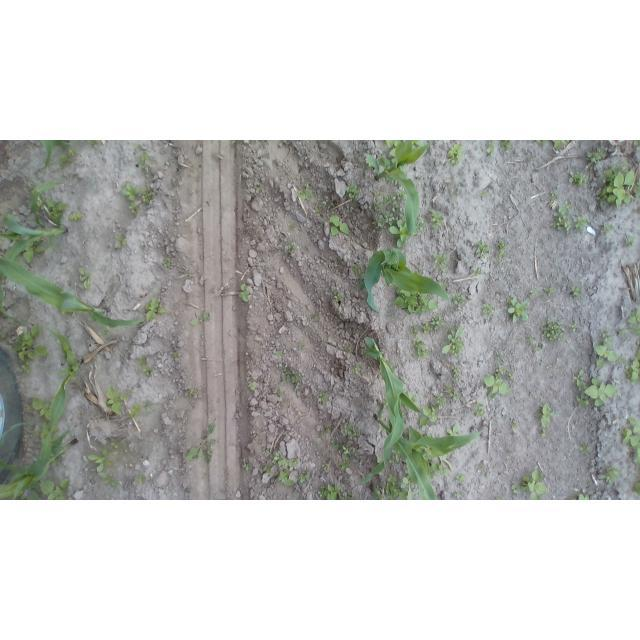Maize: (358, 409, 485, 499), (1, 255, 146, 327), (1, 179, 69, 321), (32, 322, 85, 479), (362, 335, 431, 450), (365, 140, 431, 242), (0, 422, 80, 500), (366, 244, 450, 312), (38, 140, 68, 173), (407, 485, 414, 500)
Weeds: (600, 161, 636, 208), (13, 325, 48, 363), (394, 289, 440, 314), (373, 191, 403, 226), (586, 377, 617, 407), (521, 466, 548, 500), (623, 416, 640, 465), (87, 449, 114, 475), (106, 387, 130, 416), (483, 374, 511, 398), (507, 297, 529, 326), (443, 327, 464, 357), (595, 336, 614, 369), (418, 403, 444, 427), (186, 439, 213, 462), (39, 479, 70, 499), (618, 355, 640, 383), (389, 219, 410, 248), (541, 318, 566, 342), (146, 297, 167, 325), (550, 202, 570, 230), (279, 366, 302, 389), (536, 404, 556, 428), (272, 452, 301, 468), (329, 215, 351, 236), (385, 472, 403, 497), (447, 143, 466, 165), (568, 169, 588, 189), (24, 243, 45, 262), (45, 197, 67, 215), (31, 399, 46, 425), (475, 239, 494, 257), (430, 213, 448, 232), (603, 464, 620, 484), (320, 483, 341, 499), (574, 368, 587, 393), (59, 149, 77, 167), (122, 184, 142, 200), (79, 267, 93, 289), (202, 421, 219, 439), (431, 461, 449, 478), (239, 283, 254, 303), (342, 423, 363, 437), (279, 470, 296, 487), (39, 423, 61, 436), (444, 384, 460, 400), (433, 252, 449, 268), (192, 313, 209, 328), (415, 340, 430, 357), (100, 473, 118, 487), (142, 190, 155, 209), (130, 402, 144, 419), (573, 215, 588, 230), (483, 303, 498, 318), (577, 395, 593, 409), (430, 316, 446, 330), (347, 183, 361, 198), (452, 364, 462, 384), (498, 239, 509, 257), (446, 421, 460, 435), (298, 187, 311, 202), (399, 475, 415, 487), (630, 306, 640, 324), (410, 326, 422, 341), (587, 152, 602, 164), (137, 354, 148, 370), (476, 402, 487, 418), (21, 490, 38, 500), (420, 446, 434, 458), (529, 335, 540, 350), (17, 364, 29, 377), (114, 236, 127, 248), (300, 470, 313, 482), (623, 234, 635, 247), (545, 284, 556, 298), (580, 445, 593, 456), (318, 392, 331, 403), (342, 443, 355, 454), (140, 154, 154, 164), (353, 264, 363, 278), (551, 140, 566, 149), (454, 490, 467, 500), (455, 472, 465, 485), (499, 140, 513, 149), (144, 401, 155, 412), (496, 350, 507, 361), (339, 460, 351, 470), (334, 291, 342, 305), (488, 140, 496, 154), (129, 203, 140, 213), (481, 191, 491, 202), (248, 381, 258, 392), (263, 463, 274, 473), (435, 393, 444, 405), (70, 213, 85, 220), (134, 144, 147, 152), (144, 366, 154, 376), (172, 348, 183, 357), (422, 324, 431, 335), (186, 388, 198, 396), (568, 324, 580, 332), (634, 480, 640, 496), (634, 342, 640, 358), (572, 495, 591, 500), (331, 437, 340, 447), (496, 366, 506, 375), (606, 224, 615, 234), (138, 474, 149, 482), (163, 260, 174, 268), (572, 285, 580, 296), (386, 140, 400, 146), (112, 443, 124, 450), (356, 363, 363, 375), (262, 447, 270, 457), (600, 328, 608, 337), (511, 485, 519, 494), (453, 297, 463, 304), (635, 179, 640, 193), (287, 221, 295, 229), (511, 420, 519, 428), (341, 344, 349, 352), (298, 342, 306, 350), (242, 464, 250, 472), (315, 204, 322, 213), (290, 243, 299, 250), (389, 456, 396, 465), (276, 350, 285, 357), (550, 190, 559, 197), (101, 329, 111, 335), (537, 141, 547, 147), (547, 364, 554, 372), (89, 141, 100, 146), (475, 269, 483, 275), (635, 327, 640, 336), (530, 290, 539, 295), (412, 140, 420, 145), (142, 165, 150, 170), (322, 463, 328, 469), (390, 149, 395, 156), (633, 140, 640, 145), (496, 497, 504, 500), (542, 429, 546, 435), (256, 188, 260, 193)
